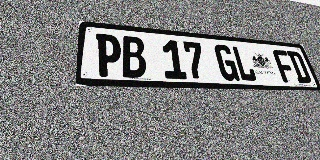1: (161, 39, 187, 79)
7: (181, 41, 208, 80)
B: (121, 36, 147, 78)
D: (286, 51, 313, 83)
F: (272, 49, 298, 83)
G: (213, 44, 240, 81)
L: (231, 46, 258, 82)
P: (96, 33, 122, 77)
